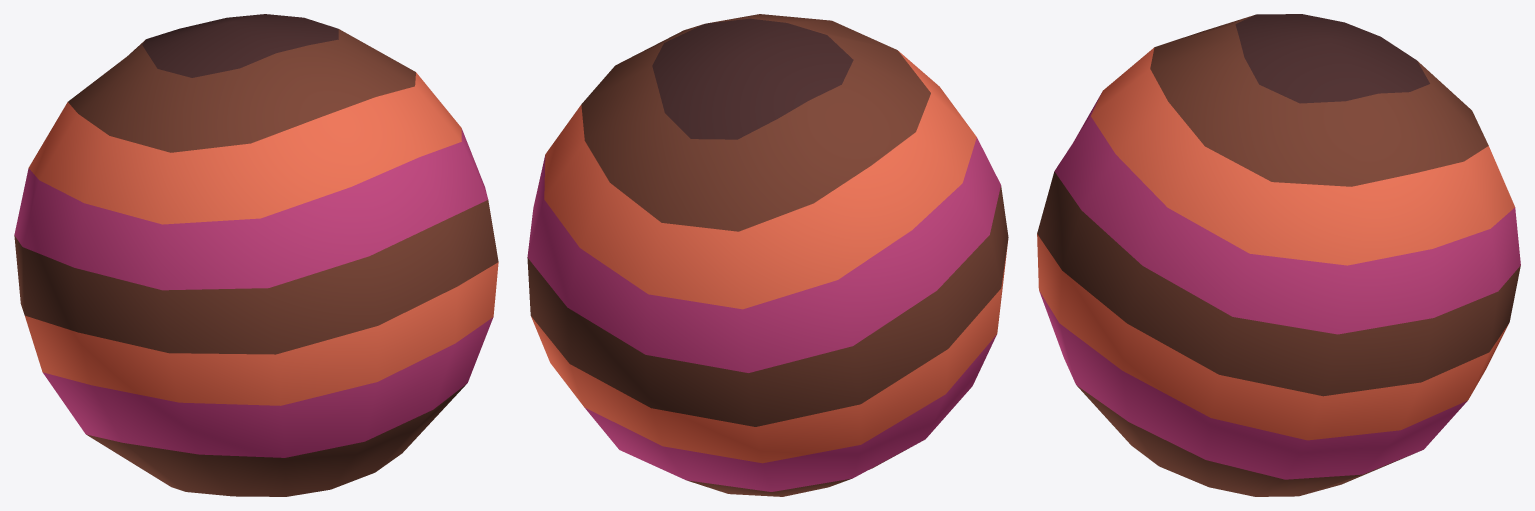
Rendered from brown_dwarf.glb.
3 renders of one model, left to right at view 1: azimuth 30°, elevation 25°; view 2: azimuth 150°, elevation 25°; view 3: azimuth 270°, elevation 25°, orthographic.
Parts seen in each view (by area): view 1: body; view 2: body; view 3: body.
Part boxes in pixels (x1,y1,x2,y2): body: (14,14,498,496); body: (527,14,1008,496); body: (1037,14,1520,496).
Bounding box in the file's own units: 194 × 197 × 199.
